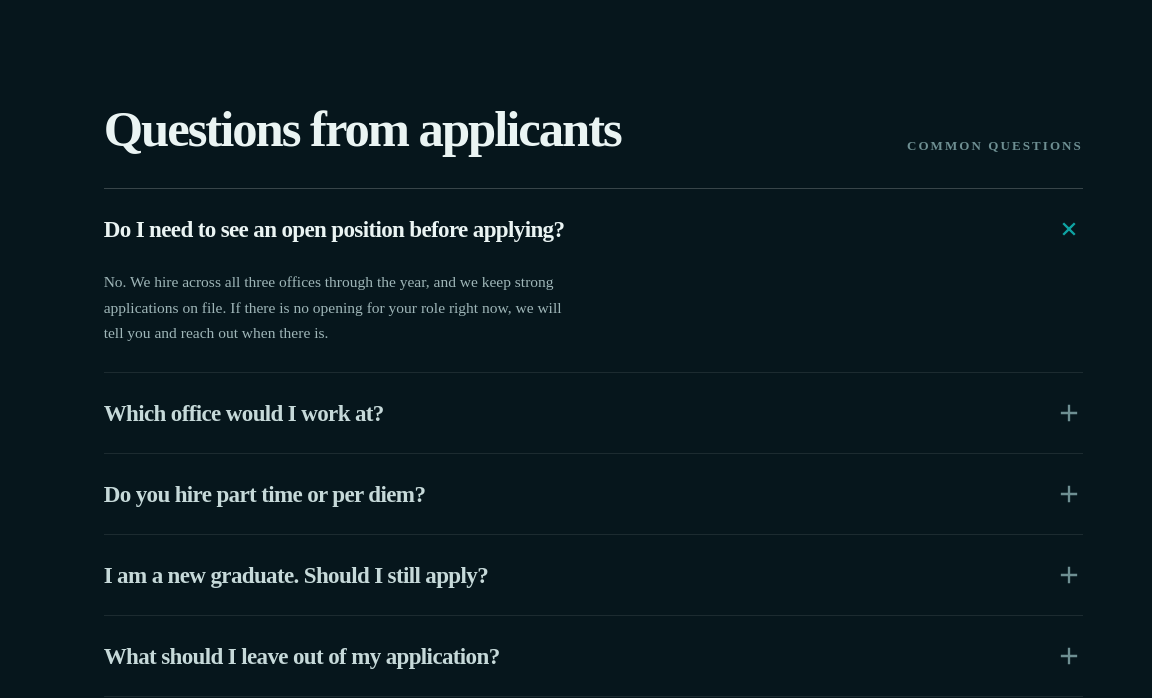
Test: CareersFaq › opens the first answer by default and collapses it on click
Click the button "Do I need to see an open position before applying?" at (334, 229), box [104,189,1083,269]
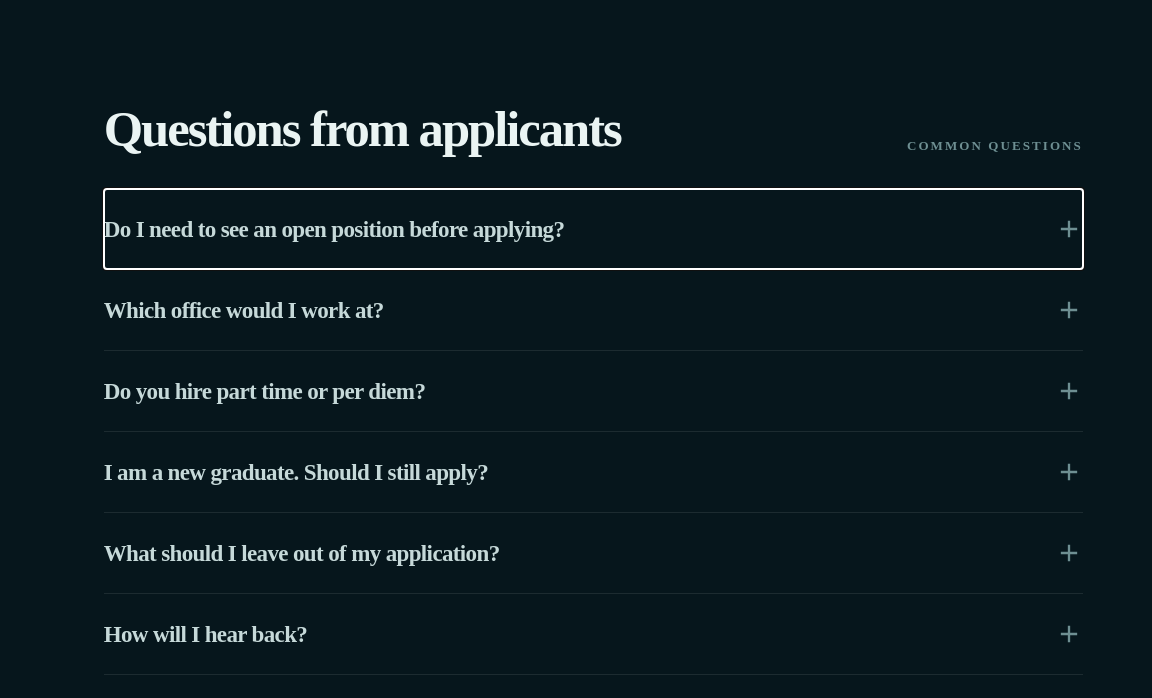
Now the button "Do I need to see an open position before applying?" is collapsed, box [104,189,1083,269]
